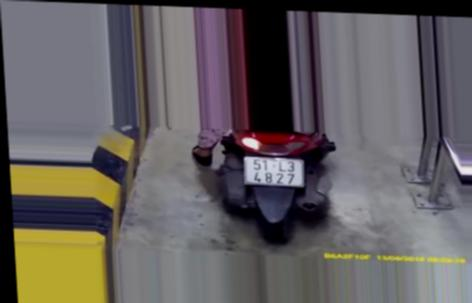License_Plate: (241, 153, 310, 192)
